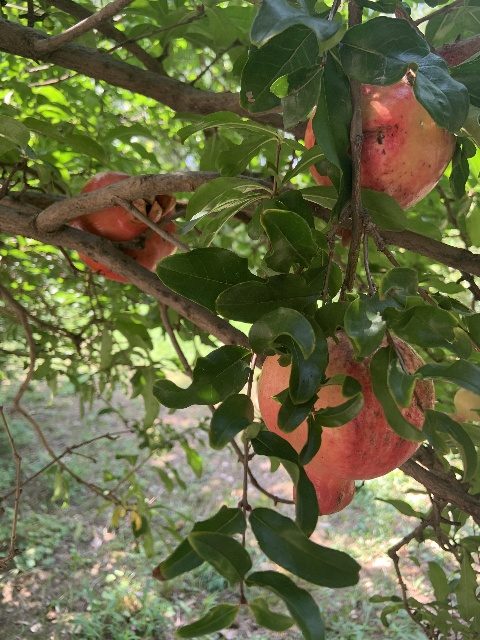ripe: (256, 332, 434, 514), (303, 69, 456, 246), (69, 171, 181, 283)
